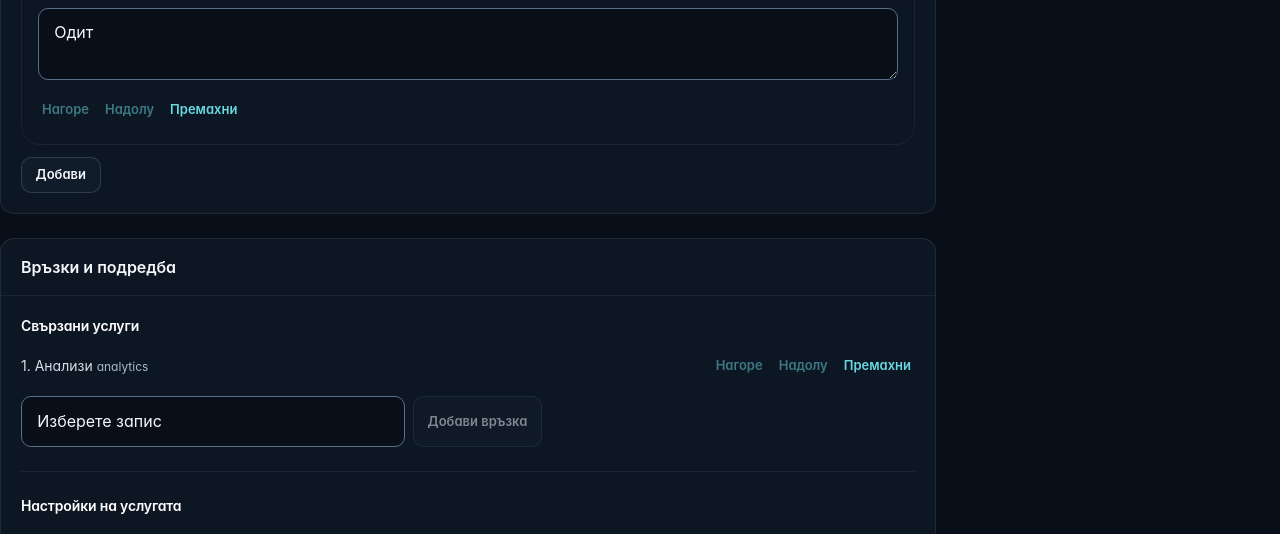
Scenario: catalogue editor › manages related entries and list items for both languages
(page scrolled)
Select "Поддръжка" in the dropdown named "Изберете запис" at (213,422), box [21, 396, 405, 448]
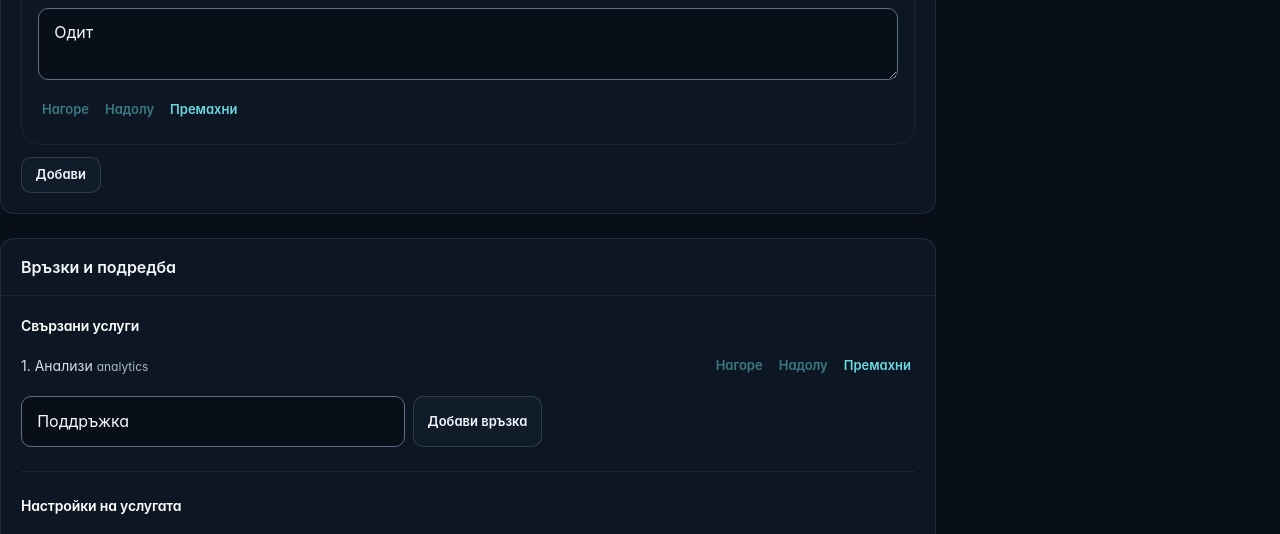
Click the button "Добави връзка" at (477,422), box [413, 396, 542, 448]
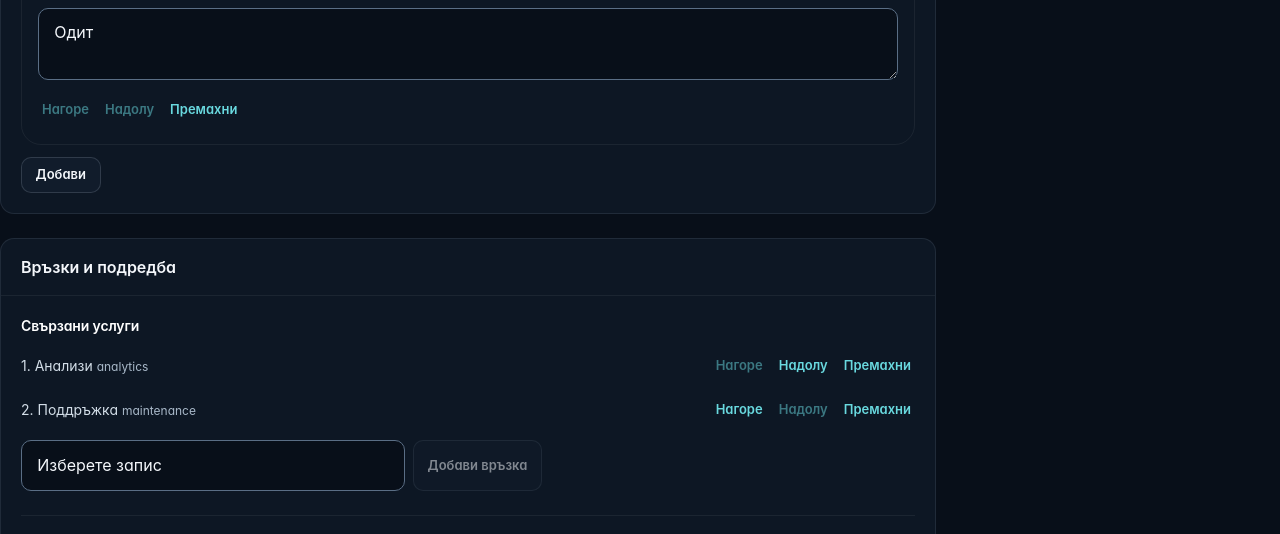
Click the button "Нагоре" in the row of "Поддръжка" at (739,410), box [712, 392, 767, 428]
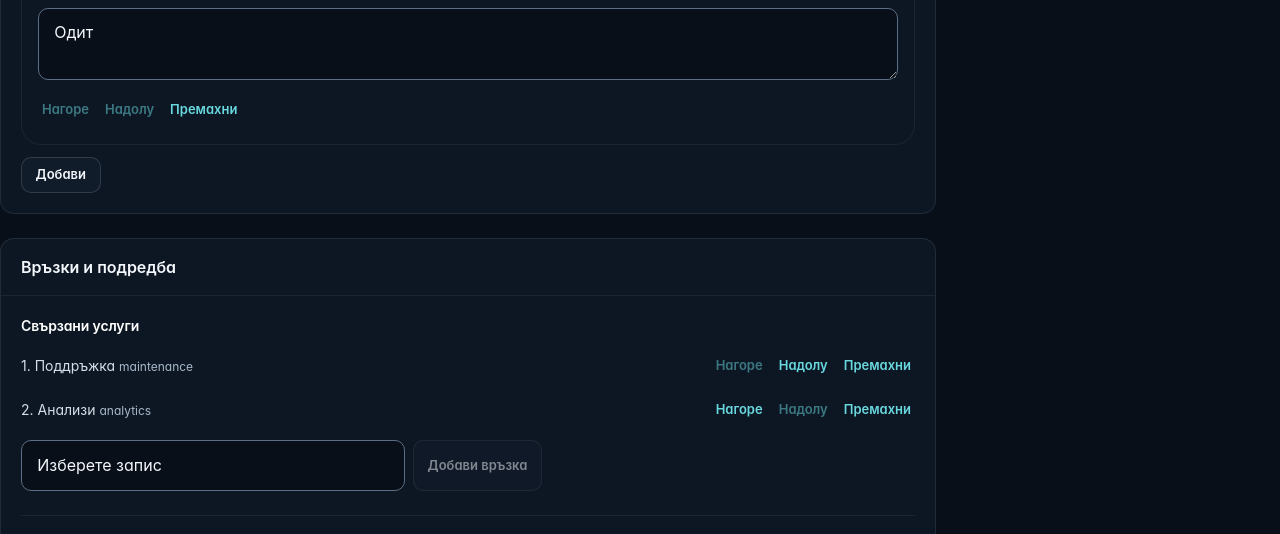
Click the button "Добави" at (61,175), box [21, 157, 101, 193]
(page scrolled)
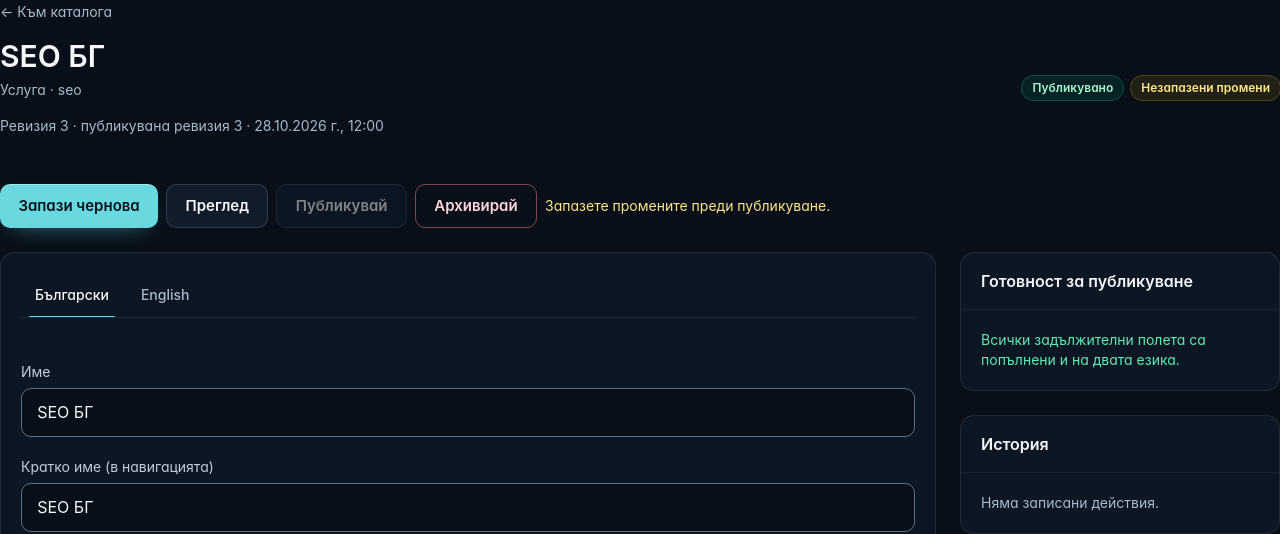
Click the button "Запази чернова" at (79,206), box [0, 184, 158, 228]
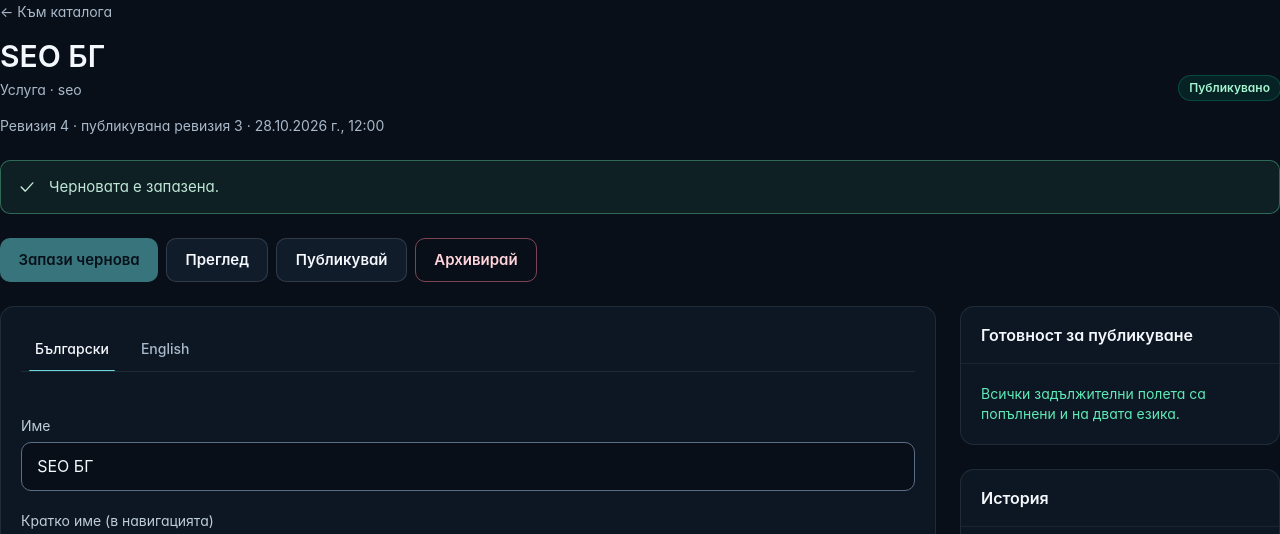
Now the text "Черновата е запазена." is shown, box [49, 175, 219, 199]
